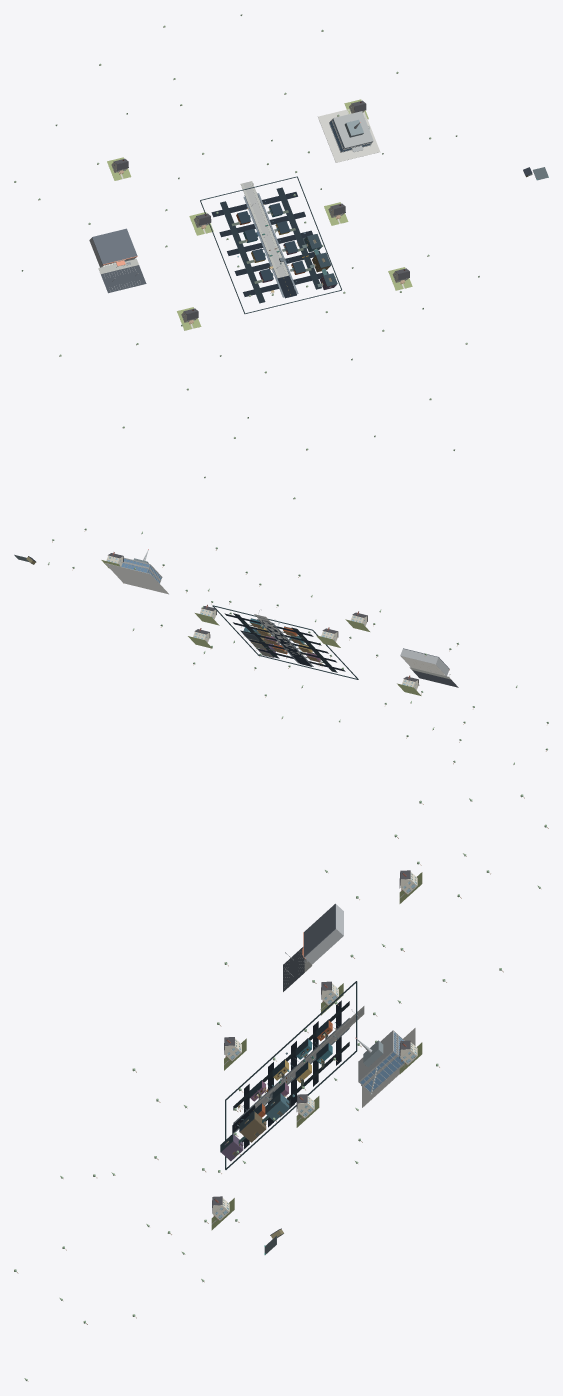
The model's file is earth-frontier_scenery.glb.
3 renders of one model, top to bottom at view 1: azimuth 30°, elevation 25°; view 2: azimuth 150°, elevation 25°; view 3: azimuth 270°, elevation 25°, orthographic. The views are drawn at different scales.
Parts seen in each view (by area): view 1: environment; view 2: environment; view 3: environment.
Boxes of the visible parts, x1,y1,x2,y2 form: environment: [14, 14, 548, 499]; environment: [14, 528, 548, 764]; environment: [14, 794, 548, 1381].
Size of the model in its own units: 501 by 312 by 312.
